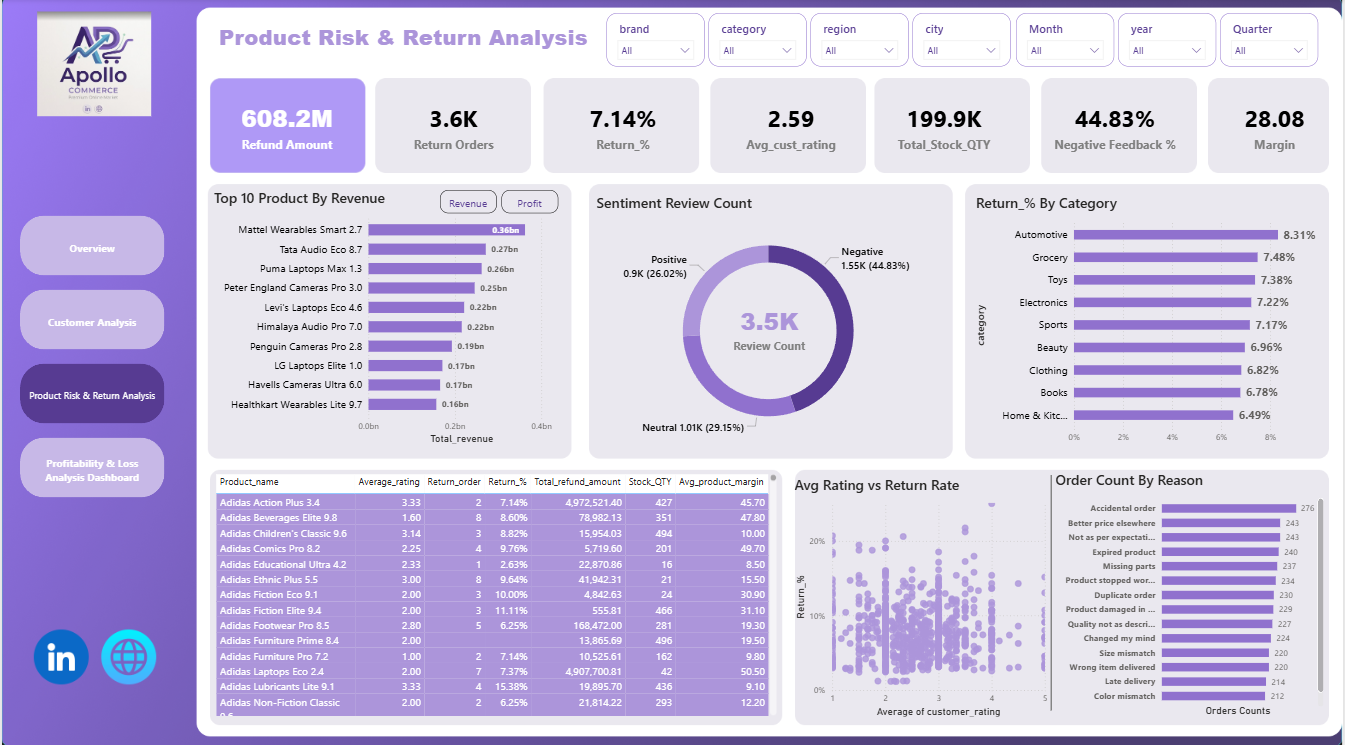

The page's visual inventory and layout, read from the dashboard file:
{"tool":"powerbi","page":{"name":"Product Risk & Return Analysis","canvas":[1920,1080],"ordinal":2},"visuals":[{"type":"card","fields":{"Values":["Measures_table.Total_refund_amount"]},"box":[297.7,121.5,218.7,121.5],"z":0},{"type":"card","fields":{"Values":["Measures_table.Total_return_order"]},"box":[537.7,121.5,218.7,121.5],"z":1000},{"type":"card","fields":{"Values":["Measures_table.Return_%"]},"box":[780.8,121.5,218.7,121.5],"z":2000},{"type":"card","fields":{"Values":["Measures_table.Avg_cust_rating"]},"box":[1020.8,121.5,218.7,121.5],"z":3000},{"type":"card","fields":{"Values":["Measures_table.Total_Stock_QTY"]},"box":[1239.5,121.5,218.7,121.5],"z":4000},{"type":"card","fields":{"Values":["Measures_table.Negative_feedback_%"]},"box":[1485.6,121.5,218.7,121.5],"z":5000},{"type":"card","fields":{"Values":["Measures_table.Avg_margin_on_product"]},"box":[1725.6,121.5,194.4,121.5],"z":6000},{"type":"donutChart","title":"Sentiment Review Count","fields":{"Category":["returns_feedback.review_sentiment"],"Y":["CountNonNull(returns_feedback.review_sentiment)"]},"box":[847.6,279.5,501.3,367.6],"z":7000},{"type":"card","fields":{"Values":["CountNonNull(returns_feedback.review_sentiment)"]},"box":[1017.7,425.3,161,94.2],"z":8000},{"type":"barChart","title":"Return_% By Category","fields":{"Category":["products.category"],"Y":["Measures_table.Return_%"]},"box":[1376.7,279.2,520.1,367.4],"z":9000},{"type":"scatterChart","title":"Avg Rating vs Return Rate","fields":{"Category":["products.product_name"],"X":["Avg(returns_feedback.customer_rating)"],"Y":["Measures_table.Return_%"]},"box":[1130.9,682.4,372.2,350.7],"z":10000},{"type":"tableEx","fields":{"Values":["products.product_name","Measures_table.Avg_cust_rating","Measures_table.Total_return_order","Measures_table.Return_%","Measures_table.Total_refund_amount","Measures_table.Total_Stock_QTY","Measures_table.Avg_margin_on_product"]},"box":[300.6,677.6,813.6,355.5],"z":11000},{"type":"barChart","title":"Top 10 Product By Revenue","fields":{"Category":["products.product_name"],"Y":["Measures_table.Total_revenue"]},"box":[297.7,273.4,513.4,370.6],"z":13000},{"type":"shape","box":[715.8,274.4,81.1,33.4],"z":14000},{"type":"shape","box":[627.5,274.4,81.1,33.4],"z":15000},{"type":"shape","box":[303,19.1,544,71.6],"z":16000},{"type":"barChart","title":"Order Count By Reason","fields":{"Category":["returns_feedback.return_reason"],"Y":["CountNonNull(returns_feedback.order_id)"]},"box":[1503.1,677.6,393.7,355.5],"z":20000},{"type":"pageNavigator","box":[26.2,312.6,207.6,404],"z":20001},{"type":"slicer","fields":{"Values":["Calender_table.Date.Variation.Date Hierarchy.Month"]},"box":[1451.4,20.5,140.8,76.3],"z":20002},{"type":"slicer","fields":{"Values":["Calender_table.year"]},"box":[1597.8,20.5,140.8,76.3],"z":20003},{"type":"slicer","fields":{"Values":["Calender_table.Date.Variation.Date Hierarchy.Quarter"]},"box":[1744.1,20.5,140.8,76.3],"z":20004},{"type":"slicer","fields":{"Values":["customers.city"]},"box":[1305.1,20.5,140.8,76.3],"z":20005},{"type":"slicer","fields":{"Values":["customers.region"]},"box":[1158.8,20.5,140.8,76.3],"z":20006},{"type":"slicer","fields":{"Values":["products.category"]},"box":[1012.4,20.5,140.8,76.3],"z":20007},{"type":"slicer","fields":{"Values":["products.brand"]},"box":[866.1,20.5,140.8,76.3],"z":20008},{"type":"image","box":[31.9,904.3,105,78.7],"z":20009},{"type":"image","box":[129.8,904.3,105,78.7],"z":20010},{"type":"image","box":[14.3,19.1,233.8,150.3],"z":20011},{"type":"shape","box":[1499.7,683.3,6.4,337.3],"z":20012}]}

Visuals, with their boxes on the page's 1920x1080 design canvas (x1, y1, x2, y2). These are canvas units, not pixel positions in the 1345x745 screenshot, which may show the page scaled, cropped or inside an application window:
card - Measures_table.Total_refund_amount: [x1=298, y1=122, x2=516, y2=243]
card - Measures_table.Total_return_order: [x1=538, y1=122, x2=756, y2=243]
card - Measures_table.Return_%: [x1=781, y1=122, x2=1000, y2=243]
card - Measures_table.Avg_cust_rating: [x1=1021, y1=122, x2=1240, y2=243]
card - Measures_table.Total_Stock_QTY: [x1=1240, y1=122, x2=1458, y2=243]
card - Measures_table.Negative_feedback_%: [x1=1486, y1=122, x2=1704, y2=243]
card - Measures_table.Avg_margin_on_product: [x1=1726, y1=122, x2=1920, y2=243]
"Sentiment Review Count" donutChart: [x1=848, y1=280, x2=1349, y2=647]
card - CountNonNull(returns_feedback.review_sentiment): [x1=1018, y1=425, x2=1179, y2=520]
"Return_% By Category" barChart: [x1=1377, y1=279, x2=1897, y2=647]
"Avg Rating vs Return Rate" scatterChart: [x1=1131, y1=682, x2=1503, y2=1033]
tableEx - products.product_name x Measures_table.Avg_cust_rating: [x1=301, y1=678, x2=1114, y2=1033]
"Top 10 Product By Revenue" barChart: [x1=298, y1=273, x2=811, y2=644]
shape: [x1=716, y1=274, x2=797, y2=308]
shape: [x1=628, y1=274, x2=709, y2=308]
shape: [x1=303, y1=19, x2=847, y2=91]
"Order Count By Reason" barChart: [x1=1503, y1=678, x2=1897, y2=1033]
pageNavigator: [x1=26, y1=313, x2=234, y2=717]
slicer - Calender_table.Date.Variation.Date Hierarchy.Month: [x1=1451, y1=20, x2=1592, y2=97]
slicer - Calender_table.year: [x1=1598, y1=20, x2=1739, y2=97]
slicer - Calender_table.Date.Variation.Date Hierarchy.Quarter: [x1=1744, y1=20, x2=1885, y2=97]
slicer - customers.city: [x1=1305, y1=20, x2=1446, y2=97]
slicer - customers.region: [x1=1159, y1=20, x2=1300, y2=97]
slicer - products.category: [x1=1012, y1=20, x2=1153, y2=97]
slicer - products.brand: [x1=866, y1=20, x2=1007, y2=97]
image: [x1=32, y1=904, x2=137, y2=983]
image: [x1=130, y1=904, x2=235, y2=983]
image: [x1=14, y1=19, x2=248, y2=169]
shape: [x1=1500, y1=683, x2=1506, y2=1021]
